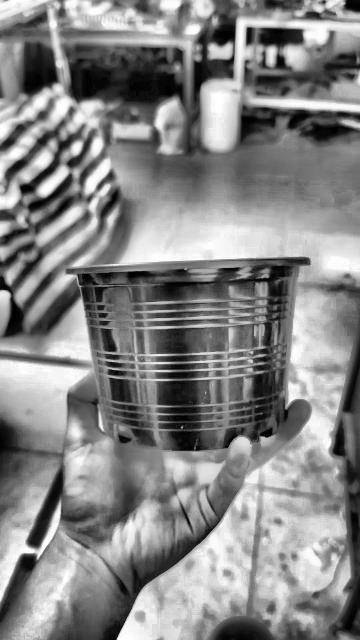pot: (68, 258, 309, 451)
